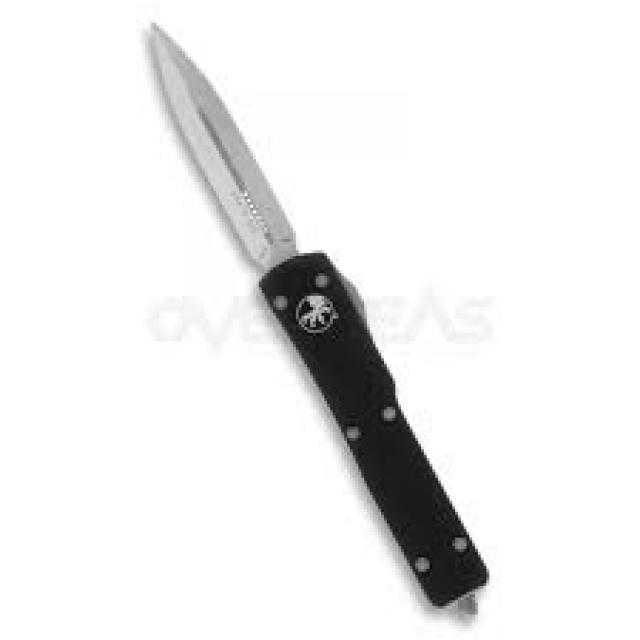knife: (139, 15, 510, 630)
